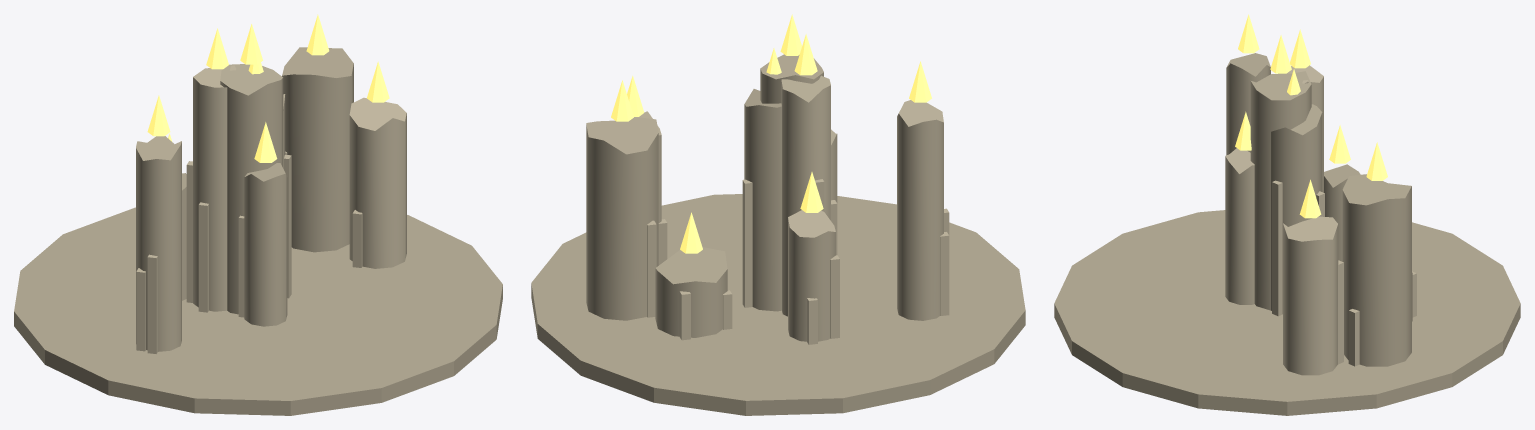
Rendered from candles_cluster.glb.
3 views of the same model, side by side, from view 1: azimuth 30°, elevation 25°; view 2: azimuth 150°, elevation 25°; view 3: azimuth 270°, elevation 25° (orthographic). The views are drawn at different scales.
Visible parts, largest first — view 1: candles_cluster; view 2: candles_cluster; view 3: candles_cluster.
Part boxes in pixels (x1=…): candles_cluster: x1=14, y1=14, x2=502, y2=415; candles_cluster: x1=531, y1=14, x2=1025, y2=415; candles_cluster: x1=1054, y1=14, x2=1520, y2=415.
Size of the model in its own units: 0.6 by 0.3952 by 0.6.
